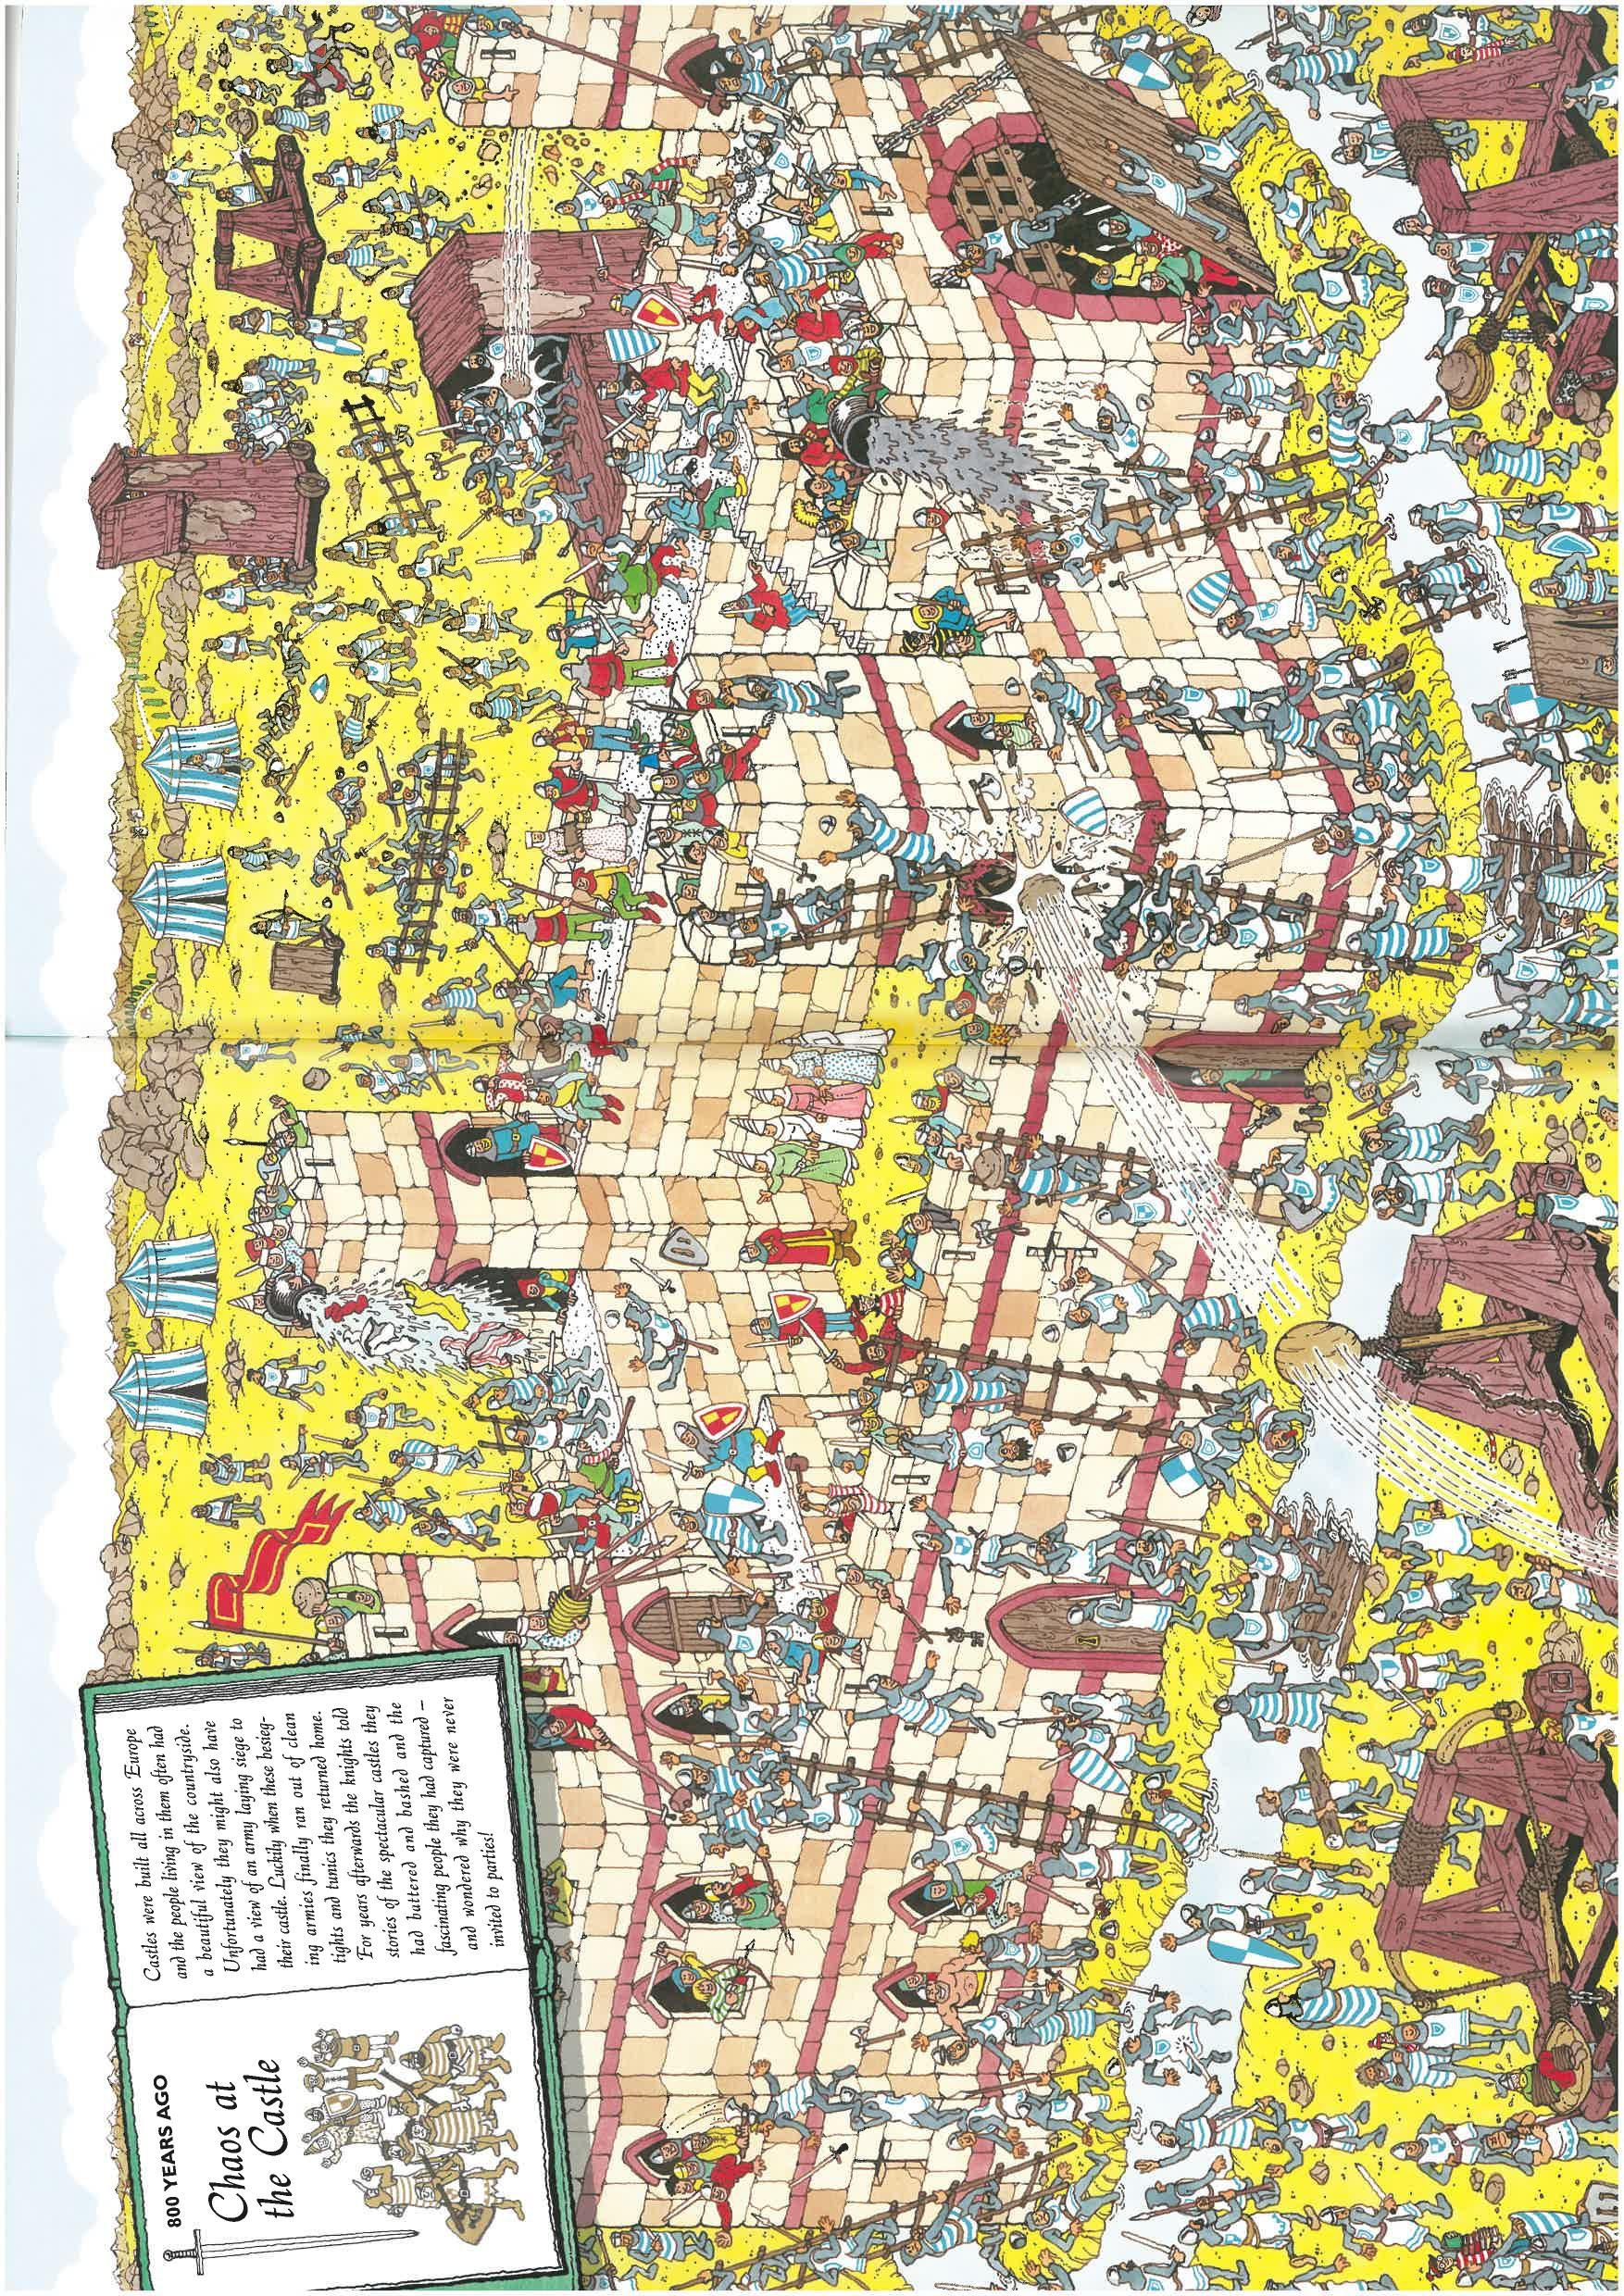waldos: (1422, 2224, 1519, 2284)
